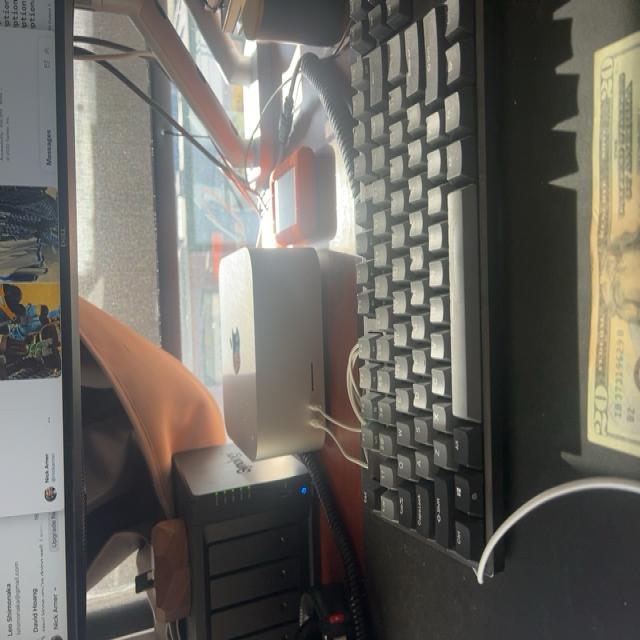twenty: (587, 29, 640, 456)
